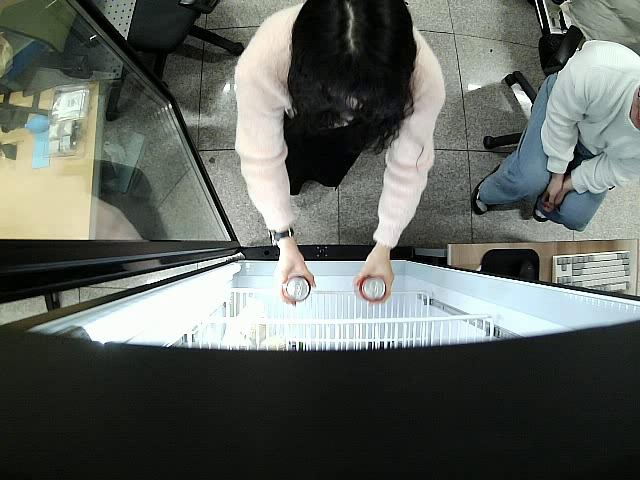00_hand: (273, 244, 316, 306), (354, 246, 394, 303)
11_cocaColaZero: (281, 276, 311, 306), (355, 275, 387, 302)
